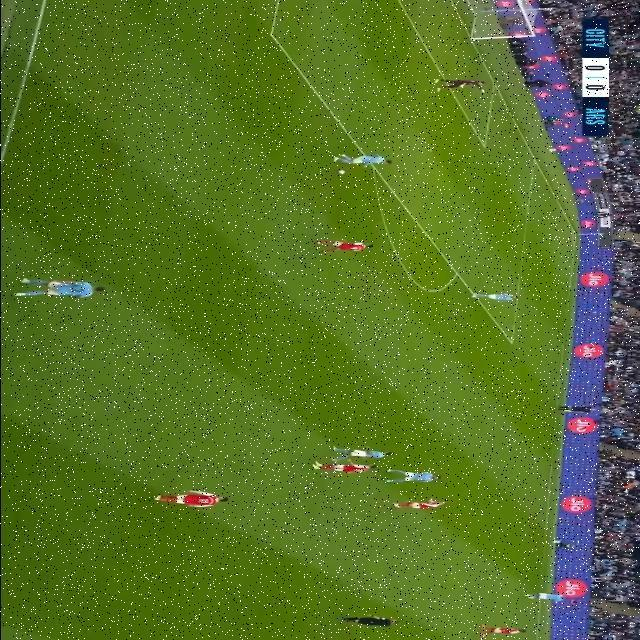player: (0, 267, 118, 312), (144, 477, 222, 529), (326, 146, 413, 166), (328, 439, 402, 461), (299, 458, 384, 477), (394, 491, 448, 515), (314, 236, 368, 259), (412, 444, 426, 448)
